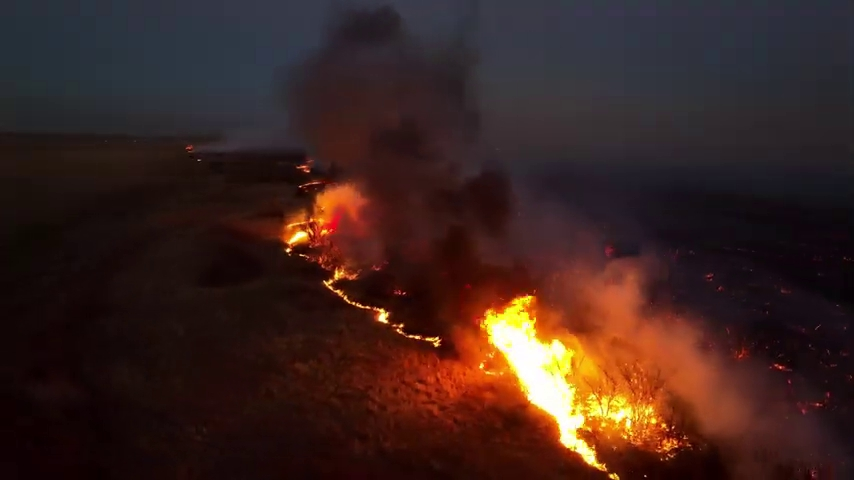forest_fire: (481, 295, 666, 479), (323, 267, 441, 346), (285, 222, 316, 252)
